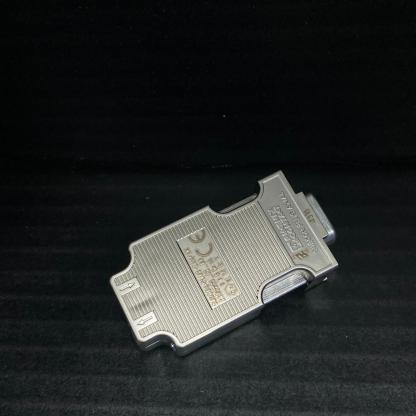SP0000010: (43, 118, 381, 382)
